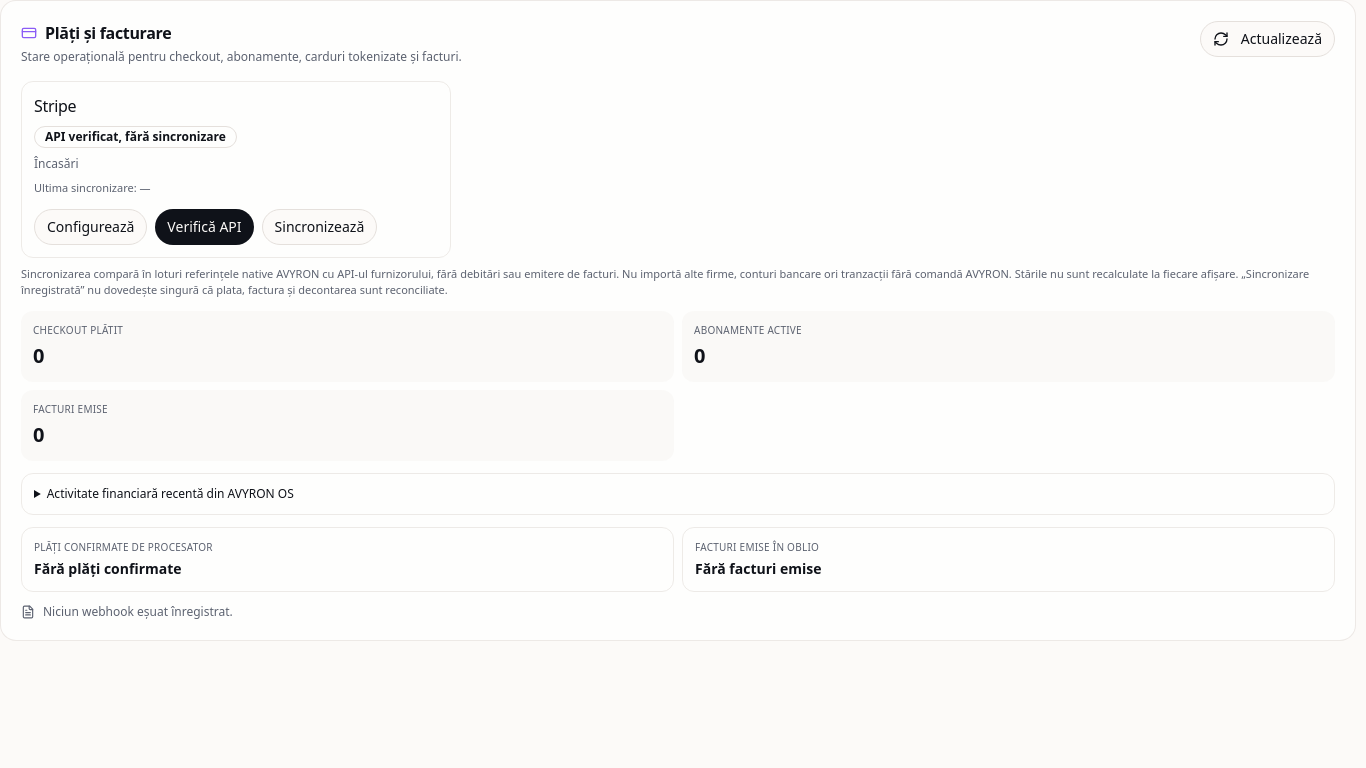
Test: runs read-only synchronization only on demand and displays the actual empty scope
This screenshot has width=1366, height=768.
Click the button "Sincronizează". click: click(319, 226)
box: [262,208,377,244]
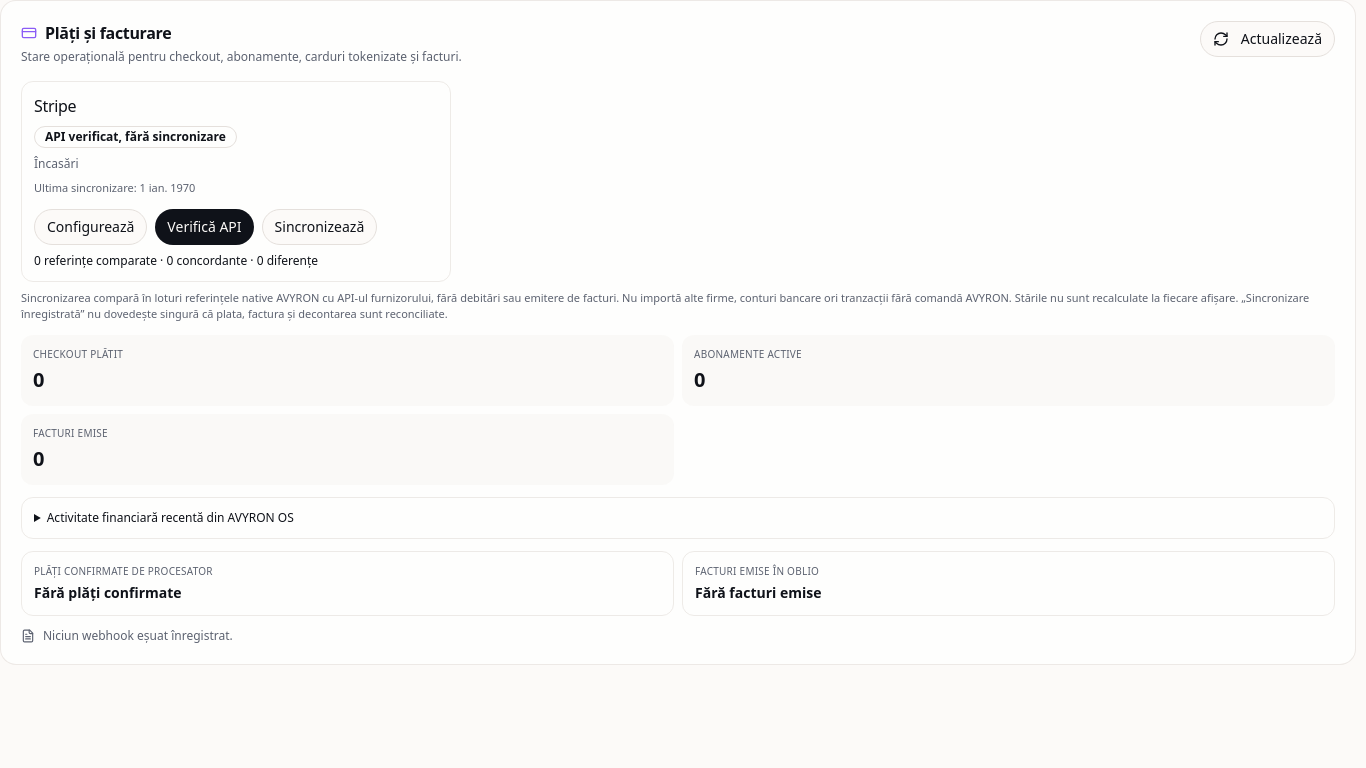
Now the text "0 referințe comparate · 0 concordante · 0 diferențe" is shown, box [34,252,318,268]
